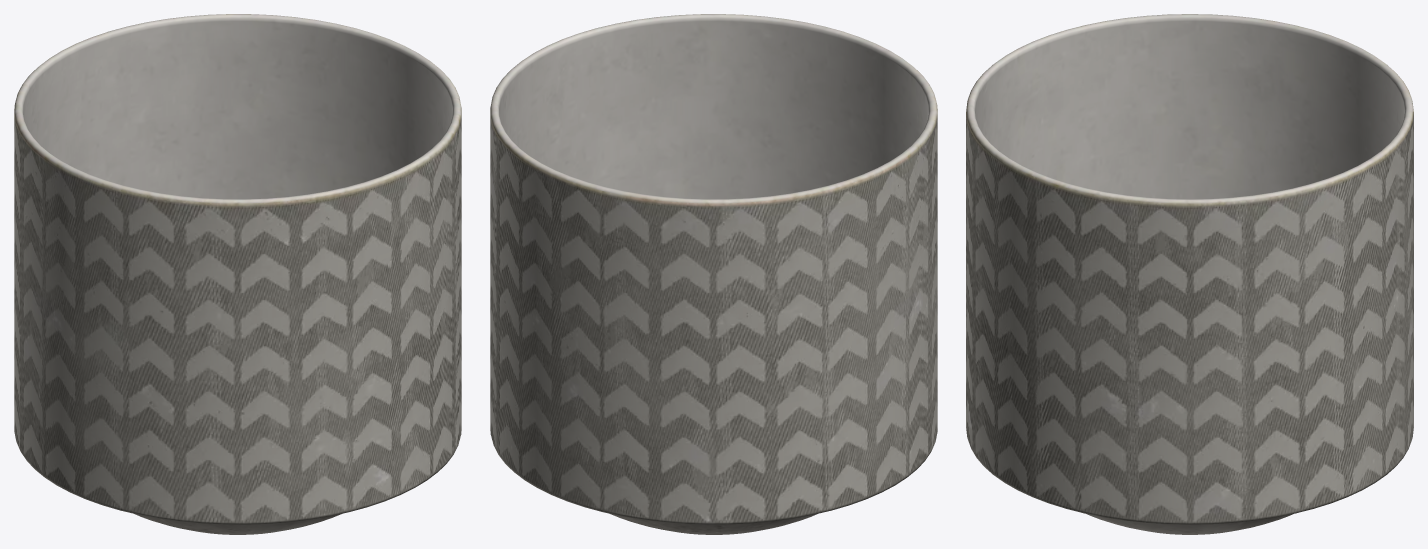
3 renders of one model, left to right at view 1: azimuth 30°, elevation 25°; view 2: azimuth 150°, elevation 25°; view 3: azimuth 270°, elevation 25°, orthographic.
Parts seen in each view (by area): view 1: RootNode; view 2: RootNode; view 3: RootNode.
Boxes of the visible parts, box(x1,y1,x2,y2) form: RootNode: box(14, 14, 461, 534); RootNode: box(490, 14, 937, 534); RootNode: box(966, 14, 1413, 534).
Size of the model in its own units: 0.2502 by 0.2389 by 0.2502.
1 material, 1 textured.
